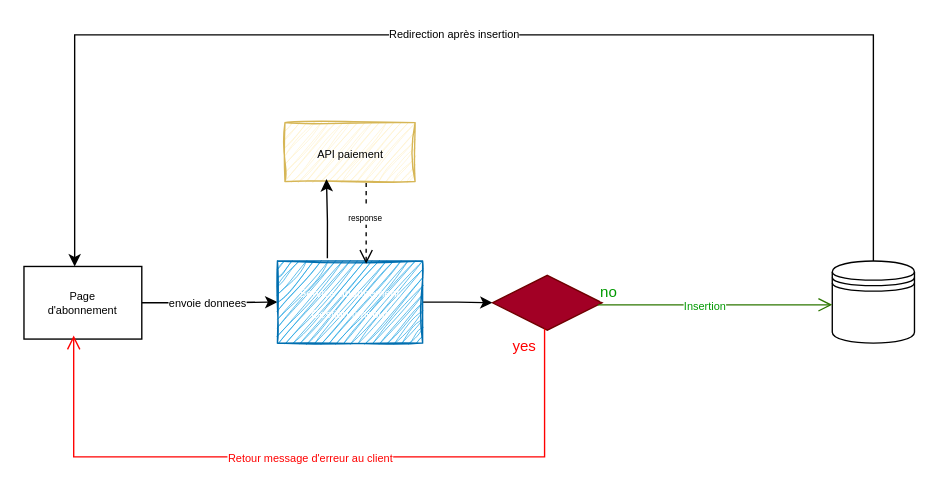
The diagram is 938 pixels wide and 495 high, and some of its shapes have lost their labels. Each missing label, with the centre of its shape:
"db" belongs at (x=872, y=301).
"Erreur ?" belongs at (x=546, y=302).
